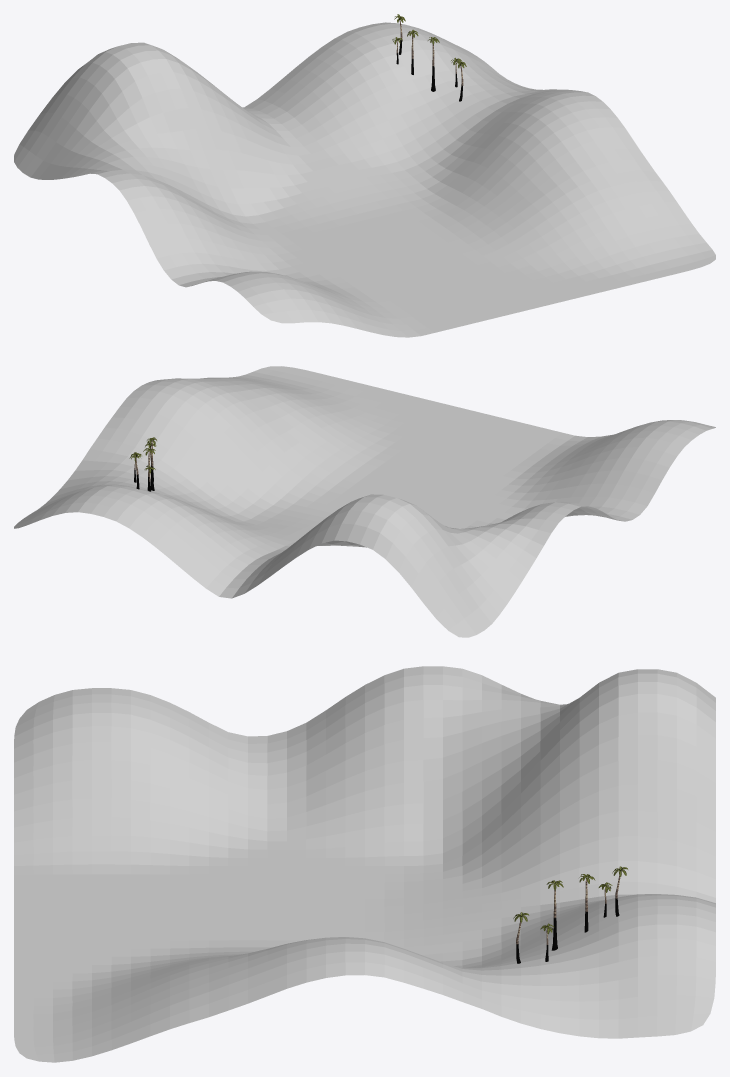
File: PalmPath.fbx
The picture shows the model from 3 angles, top to bottom: view 1: azimuth 30°, elevation 25°; view 2: azimuth 150°, elevation 25°; view 3: azimuth 270°, elevation 25°; orthographic projection. The views are drawn at different scales.
Parts seen in each view (by area): view 1: Plane; view 2: Plane; view 3: Plane.
Boxes of the visible parts, <box> form: Plane: <box>14,22,715,337</box>; Plane: <box>14,366,715,637</box>; Plane: <box>14,666,715,1062</box>.
Bounding box in the file's own units: 11593 × 2906 × 11593.
